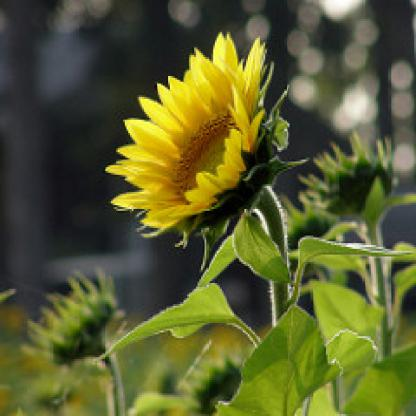SUN FLOWER: (93, 41, 335, 303)
